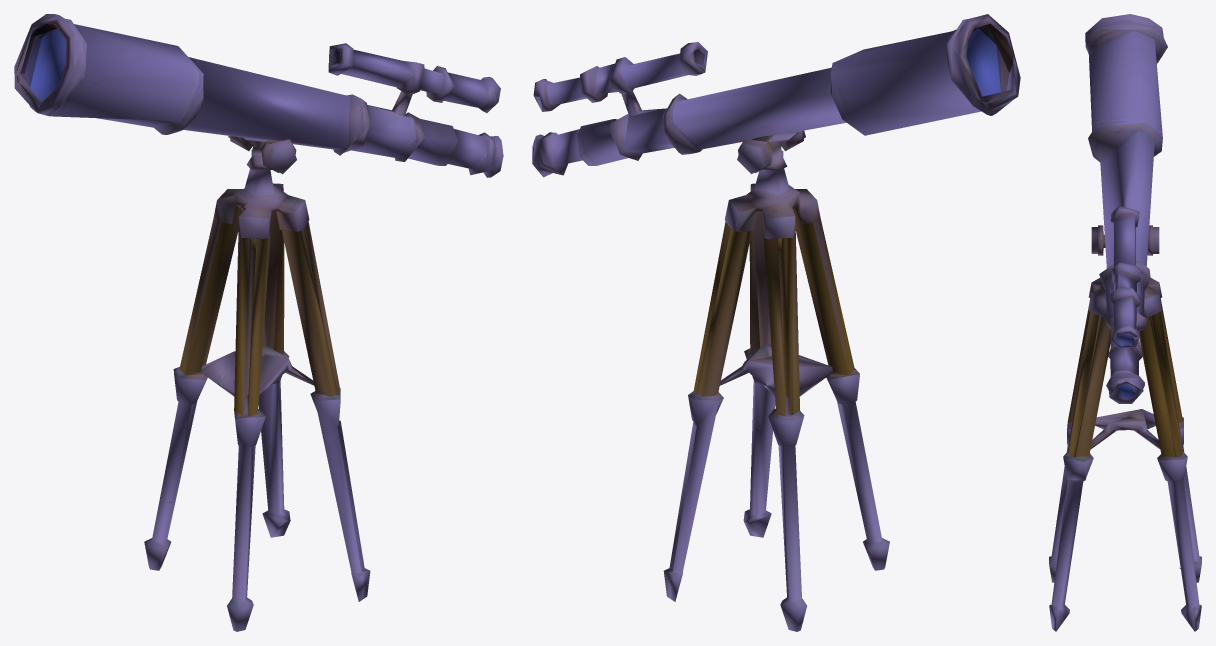
Rendered from model.progressive.glb.
3 views of the same model, side by side, from view 1: azimuth 30°, elevation 25°; view 2: azimuth 150°, elevation 25°; view 3: azimuth 270°, elevation 25° (orthographic). The views are drawn at different scales.
Visible parts, largest first — view 1: material; view 2: material; view 3: material.
Part boxes in pixels (<box>): material: <box>14,14,503,631</box>; material: <box>532,14,1020,631</box>; material: <box>1049,14,1201,631</box>.
Bounding box in the file's own units: 1.53 × 1.9 × 0.5135.
Materials: 1 (1 with a texture image).
